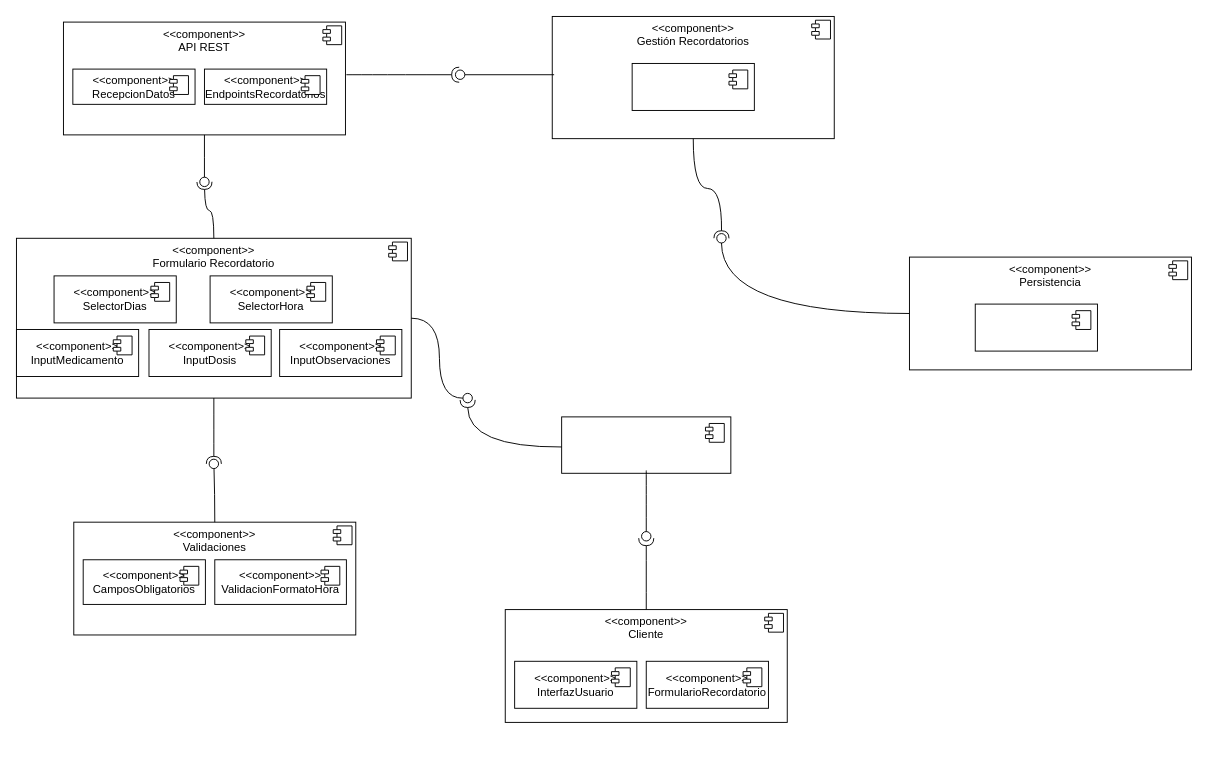
Some shapes in this 1208 by 776 pixel diagram are drawn without their labels. Here are the shapes that lost their labels. From the top down, the centre of each, then its label:
At (692,86): "<<component>> CrearRecordatorio".
At (1035,327): "<<component>> TablaRecordatorios".
At (646,444): "«component» Sistema de recordatorio".
